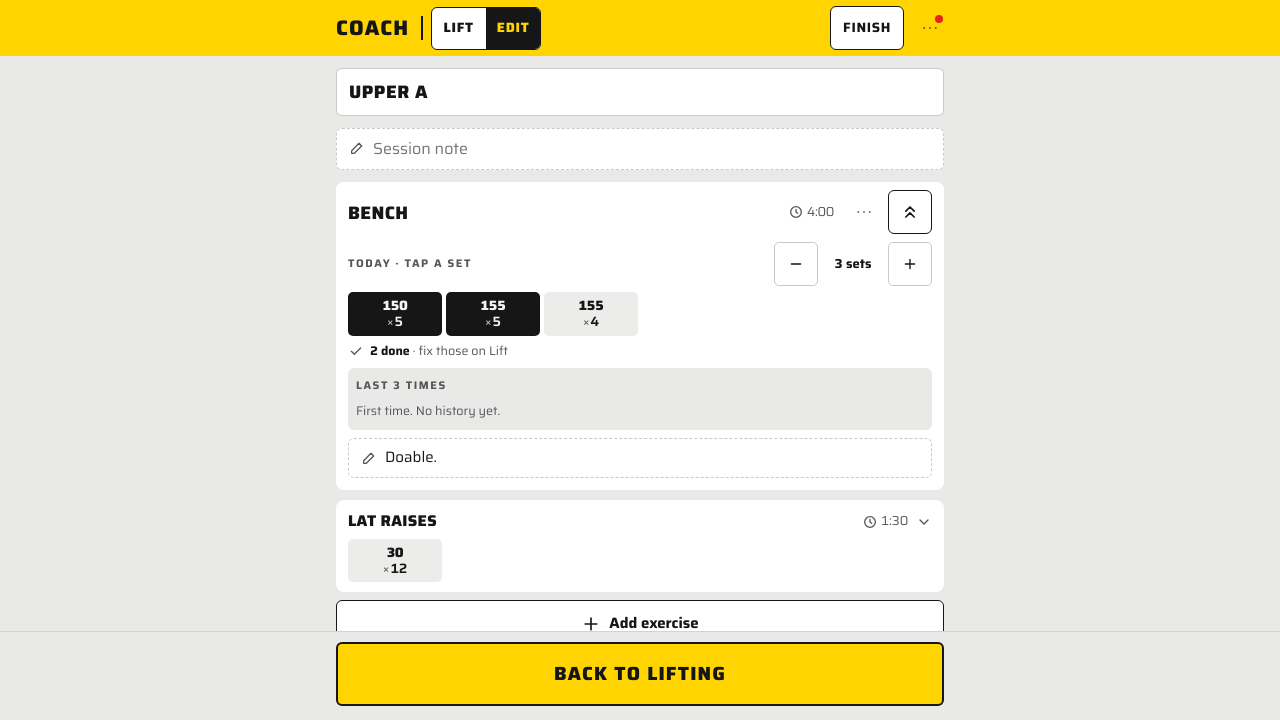
Test: PlanView › Edit mid-session › stays put when the save fails
Step 1. Click the button named "One more set" → (910, 264), box [888,242,932,286]
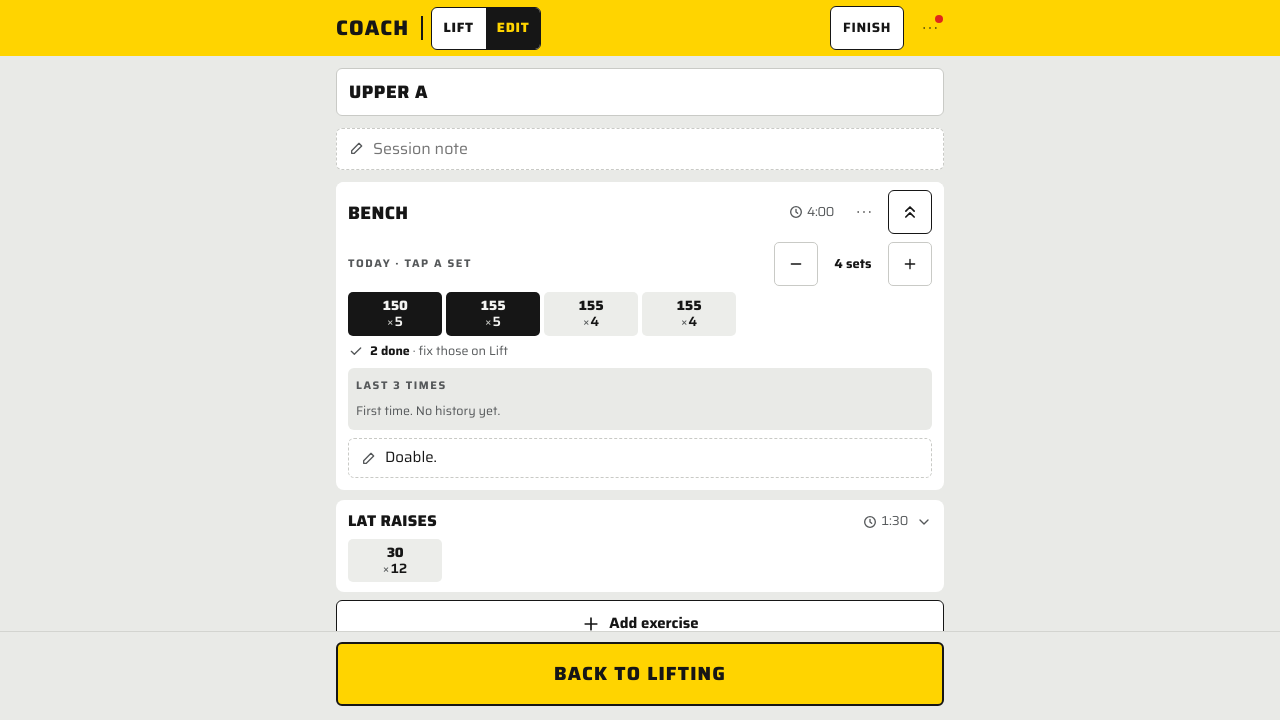
Step 2. Click the button "Back to lifting" → (640, 674), box [336,642,944,706]
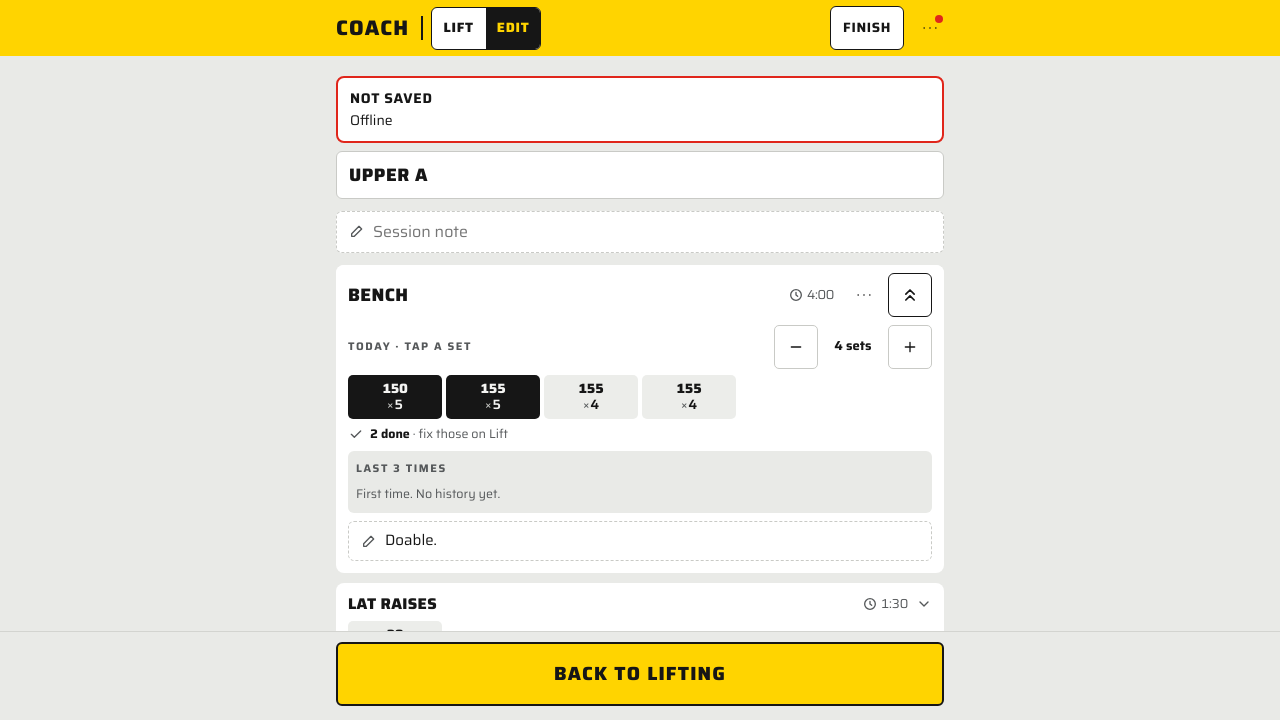
Expected: the text "Offline" is shown, [350,109,393,131]
